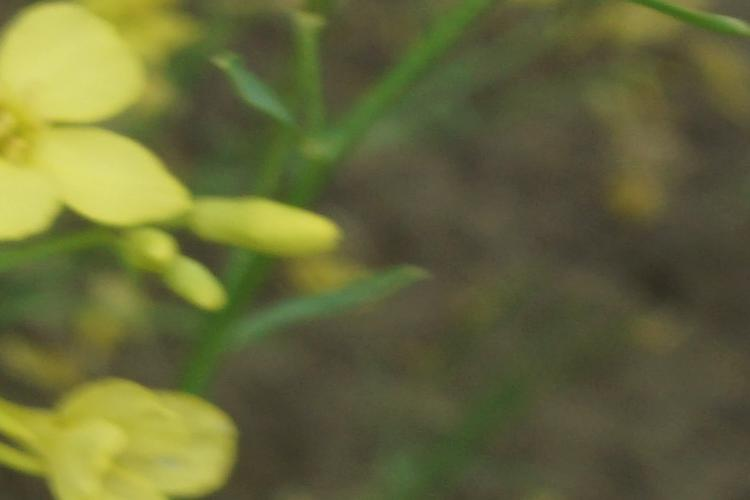bud: (177, 183, 363, 266), (165, 249, 230, 323), (115, 222, 183, 276)
yellow: (7, 6, 192, 228), (26, 367, 253, 495)
